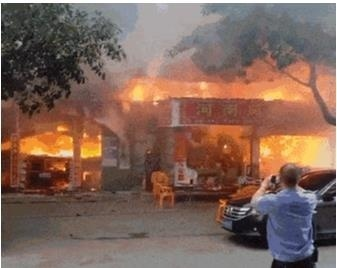fire: (9, 120, 103, 164), (257, 131, 331, 166), (125, 77, 166, 104)
